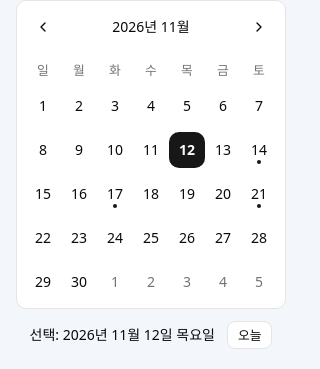
Test: calendar: picks one day and jumps back to today
The width and height of the screenshot is (320, 369).
Expected: the message shows "2026년 11월 12일 목요일", x1=30 y1=325 x2=215 y2=344
Click the button named "11월 20일" at point(223, 194), box x1=205 y1=176 x2=241 y2=212
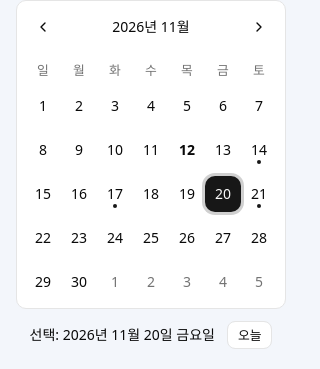
Now the message shows "2026년 11월 20일 금요일", box x1=30 y1=325 x2=215 y2=344
Click the button "오늘" at point(250, 335), box x1=227 y1=321 x2=272 y2=349
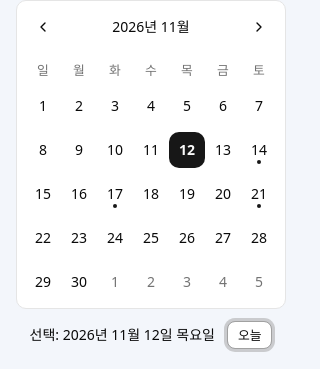
Now the message shows "2026년 11월 12일 목요일", box x1=30 y1=325 x2=215 y2=344
